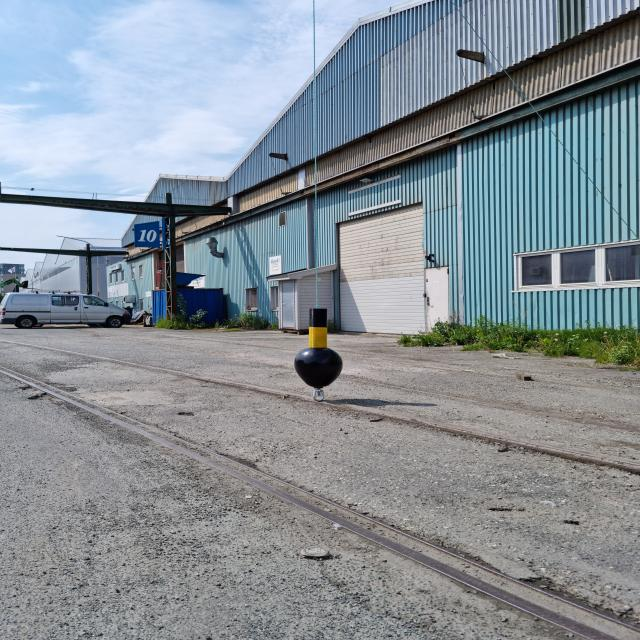east: (294, 308, 345, 388)
